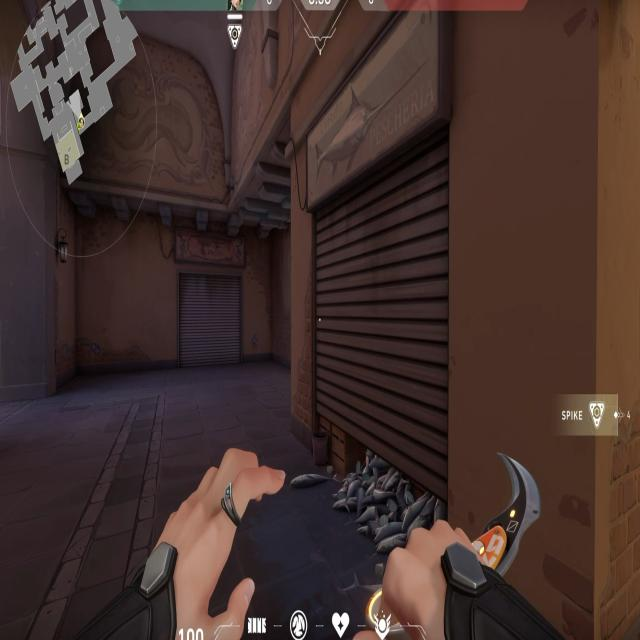B_Main_Corner: (278, 79, 466, 534)
